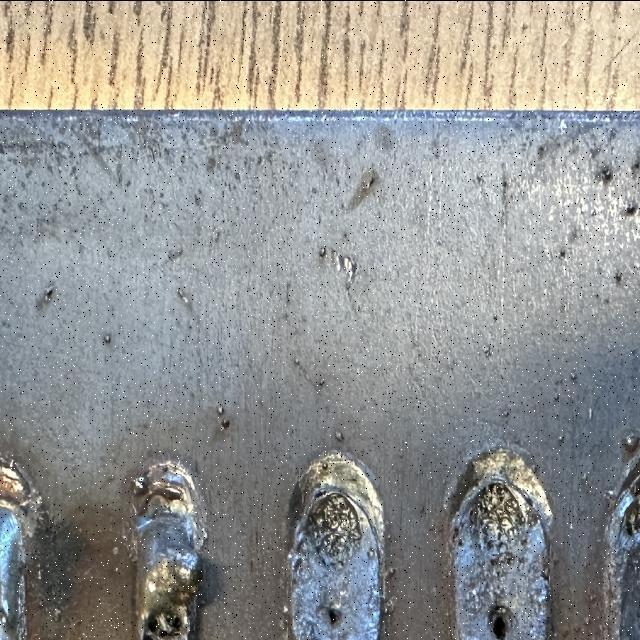Excess Reinforcement: (132, 460, 201, 525), (120, 472, 139, 565), (171, 545, 202, 592), (0, 459, 31, 505), (132, 468, 149, 495)
Porosity: (306, 492, 361, 565), (469, 482, 525, 550), (141, 612, 188, 640), (489, 605, 511, 640), (155, 612, 181, 640), (625, 512, 639, 535), (328, 607, 341, 625), (146, 613, 158, 632), (315, 487, 329, 498), (505, 553, 515, 562), (490, 557, 498, 567), (456, 537, 464, 547), (521, 537, 529, 547), (452, 530, 458, 540), (454, 527, 459, 535), (519, 557, 524, 563)
Spatters: (335, 254, 356, 282), (621, 430, 640, 455), (600, 167, 612, 182), (384, 595, 394, 613), (178, 287, 189, 303), (385, 565, 396, 578), (44, 285, 53, 300), (482, 343, 491, 358), (625, 203, 636, 215), (529, 460, 539, 473), (335, 430, 344, 442), (614, 270, 622, 283), (221, 418, 230, 428), (572, 623, 582, 632), (104, 333, 111, 343), (319, 247, 326, 257), (559, 248, 566, 258), (584, 615, 591, 625), (570, 372, 578, 380), (321, 461, 328, 470), (218, 405, 224, 415), (558, 433, 564, 442), (386, 530, 391, 540), (502, 410, 509, 417), (112, 545, 118, 553), (581, 472, 587, 480), (319, 378, 325, 385), (554, 392, 559, 400), (589, 407, 592, 418), (604, 297, 609, 303), (592, 208, 596, 215), (295, 357, 299, 363), (594, 292, 598, 298)
